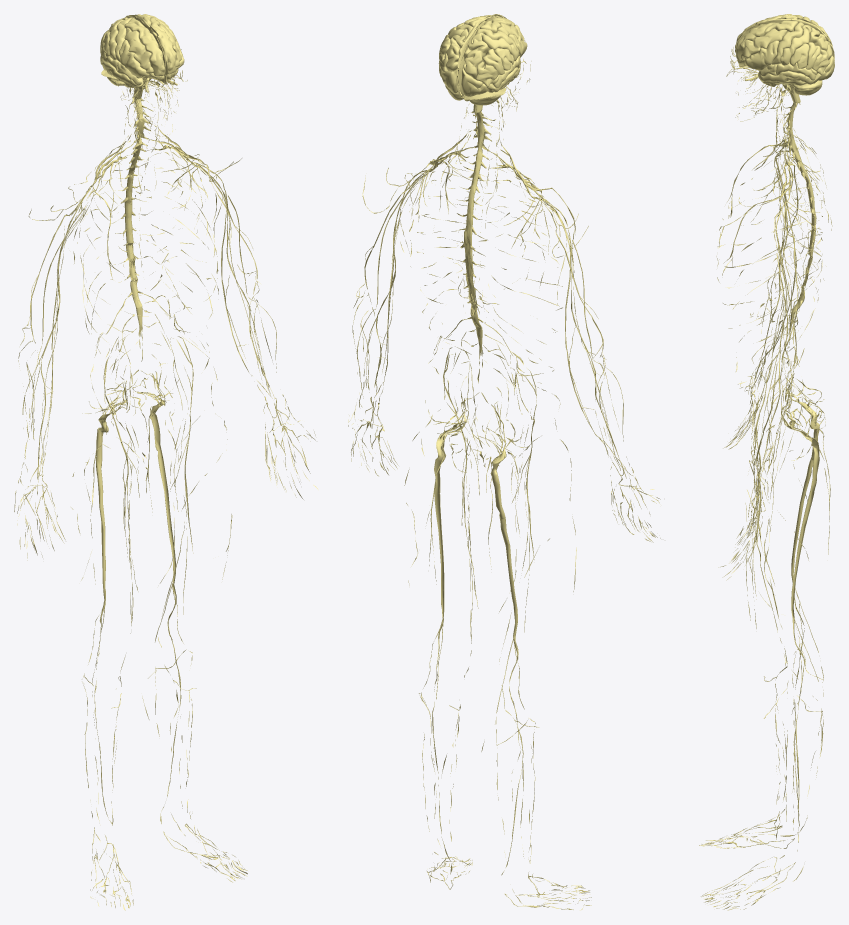
The model's file is nervi.glb.
3 views of the same model, side by side, from view 1: azimuth 30°, elevation 25°; view 2: azimuth 150°, elevation 25°; view 3: azimuth 270°, elevation 25° (orthographic). The views are drawn at different scales.
Visible parts, largest first — view 1: ZA0934, ZA0931, ZA0930, FJ1834, ZA0822, ZA0821; view 2: ZA0934, ZA0931, ZA0930, FJ1733; view 3: ZA0934, ZA0930, ZA0931, FJ1833, FJ1787, ZA0821, FJ1744, FJ1732, ZA0792, FJ1789, FJ1797, ZA0853 (+13 smaller).
Part boxes in pixels (x1,y1,x2,y2): ZA0934: (122, 98, 149, 336); ZA0931: (96, 381, 126, 600); ZA0930: (147, 373, 175, 583); FJ1834: (124, 18, 165, 76); ZA0822: (79, 156, 168, 393); ZA0821: (136, 150, 218, 369); ZA0934: (461, 111, 490, 355); ZA0931: (489, 405, 517, 636); ZA0930: (434, 398, 467, 617); FJ1733: (475, 49, 504, 86); ZA0934: (786, 103, 816, 338); ZA0930: (781, 390, 819, 617); ZA0931: (786, 377, 819, 583); FJ1833: (735, 20, 797, 60); FJ1787: (740, 28, 787, 60); ZA0821: (716, 159, 822, 384); FJ1744: (744, 40, 779, 70); FJ1732: (805, 42, 829, 74); ZA0792: (736, 17, 834, 67); FJ1789: (760, 71, 821, 84); FJ1797: (780, 25, 811, 65); ZA0853: (753, 201, 787, 504).
Size of the model in its own units: 0.6358 by 1.7 by 0.2464.
